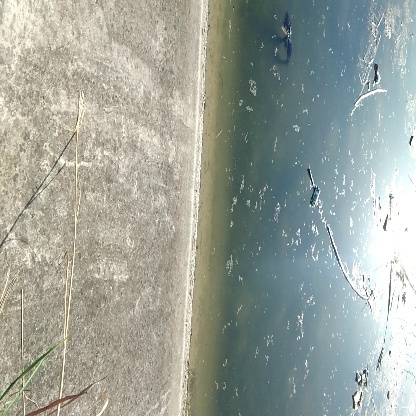branch: (324, 217, 372, 305)
